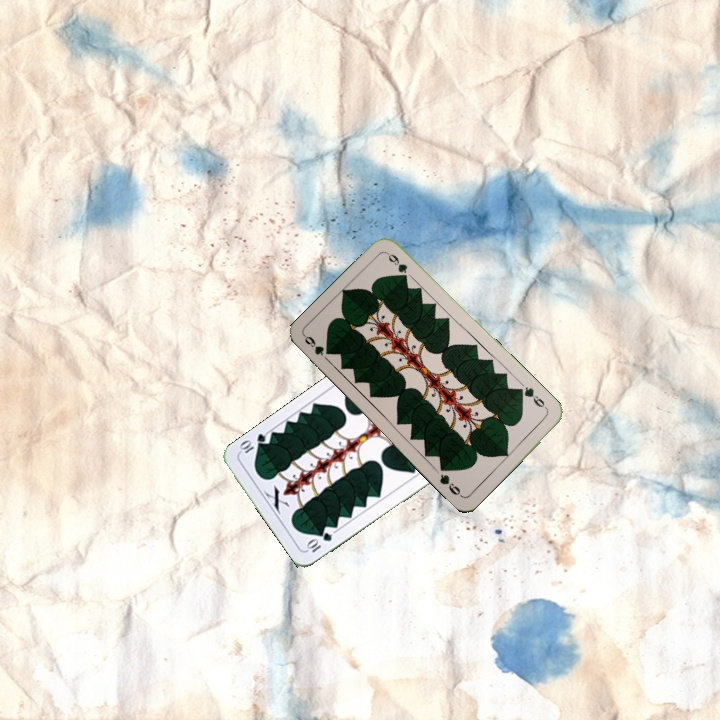G10: (303, 528, 335, 555)
G9: (515, 383, 550, 413), (301, 332, 327, 358)
